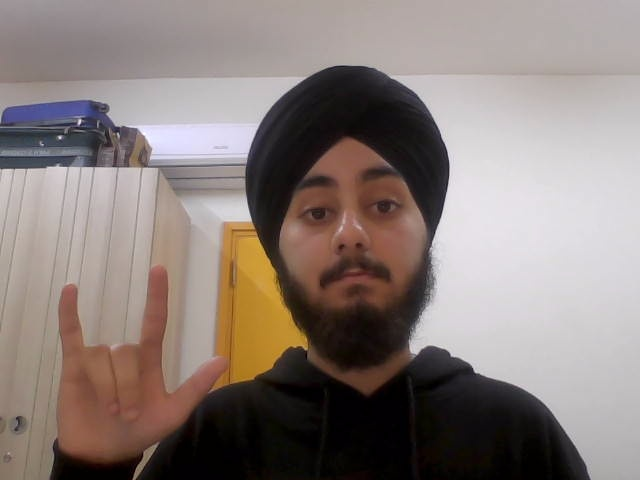ILoveYou: (42, 260, 231, 458)
